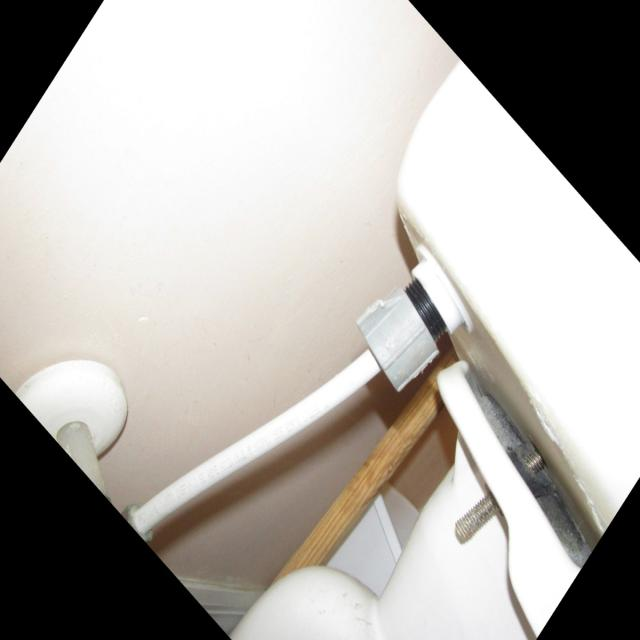bad_coupler: (356, 282, 438, 394)
good_line: (133, 352, 379, 536)
rusty_bolt: (453, 498, 497, 547)
